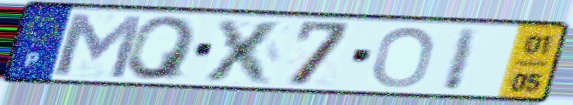7: (288, 18, 357, 89)
I: (438, 26, 484, 93)
M: (51, 11, 147, 81)
O: (369, 25, 438, 90)
Q: (123, 14, 200, 82)
X: (198, 16, 291, 86)
